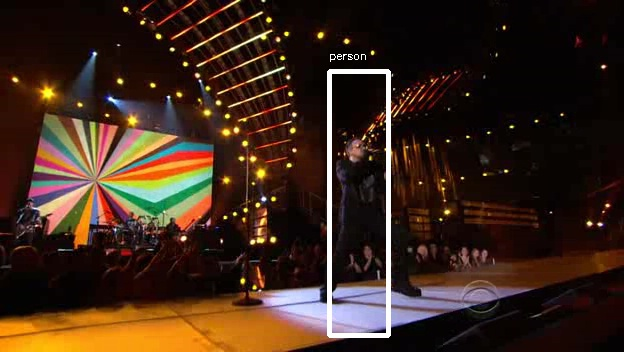person: (331, 135, 395, 250), (328, 135, 392, 250), (334, 135, 398, 250), (331, 132, 395, 247), (331, 138, 395, 253)
target_negative: (103, 50, 542, 217), (421, 264, 553, 348), (215, 161, 276, 187), (575, 180, 584, 195), (259, 311, 264, 316)
